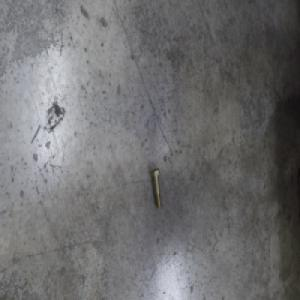Bolt: (150, 166, 163, 209)
